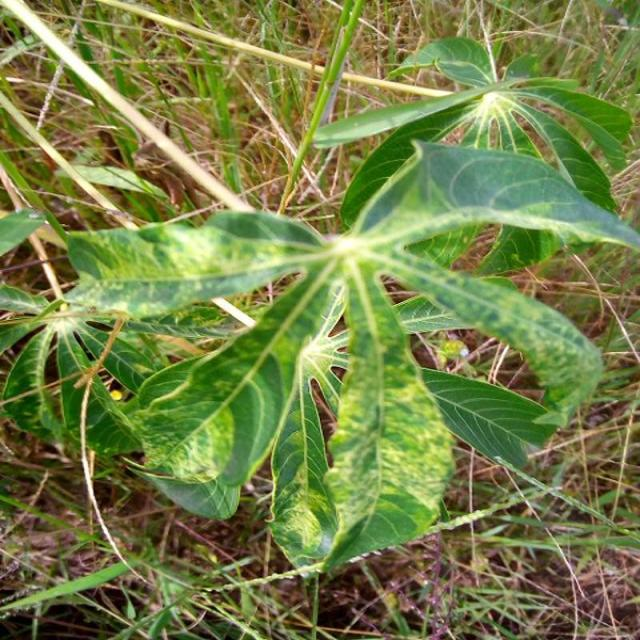cassava leaf: (58, 136, 636, 575)
